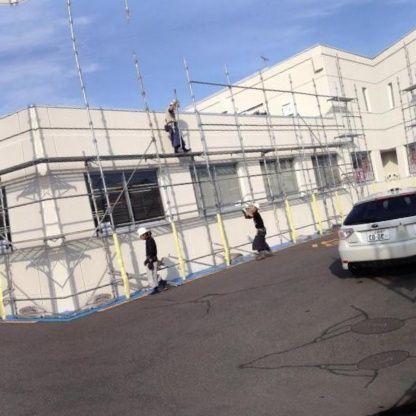white: (133, 224, 153, 239), (251, 201, 262, 210)
